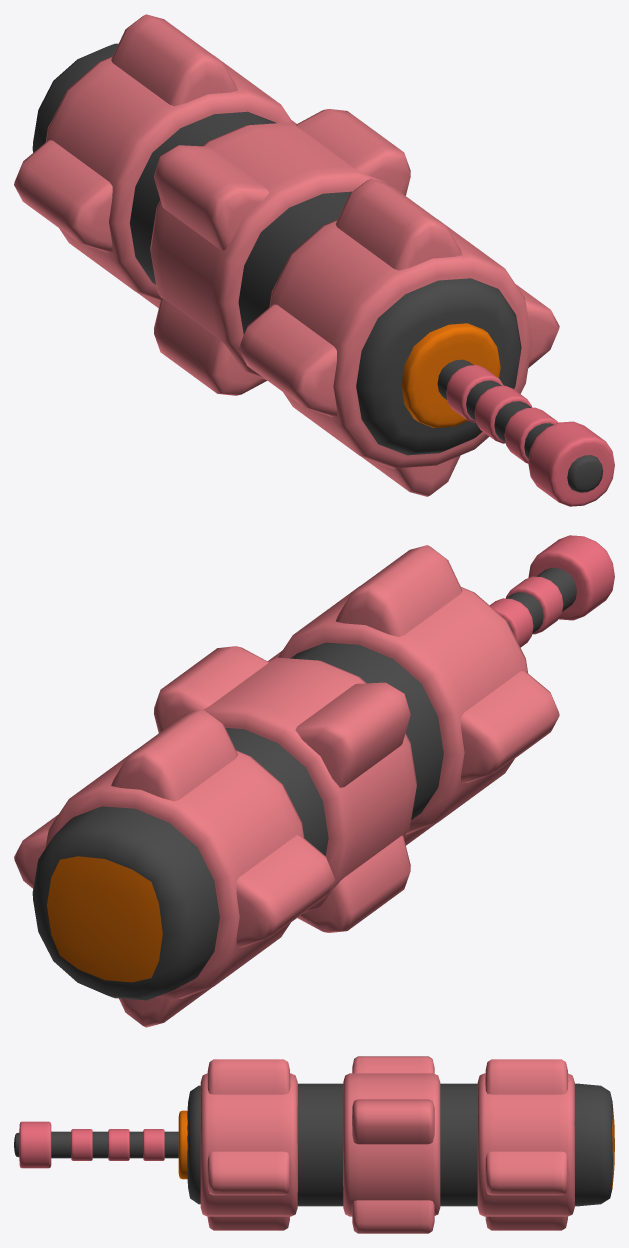
The model's file is softy2.fbx.
3 views of the same model, one above another, from view 1: azimuth 30°, elevation 25°; view 2: azimuth 150°, elevation 25°; view 3: azimuth 270°, elevation 25° (orthographic). The views are drawn at different scales.
Parts seen in each view (by area): view 1: pCube24, pCube15, pCube22, pCube17, pCube27, pCube29, pCube30, pCube28, pCube26, pCube16, pCube23, pCube20 (+4 smaller); view 2: pCube24, pCube17, pCube22, pCube15, pCube27, pCube16, pCube26, pCube28, pCube29, pCube30, pCube20, pCube31 (+2 smaller); view 3: pCube24, pCube22, pCube17, pCube15, pCube28, pCube29, pCube16, pCube27, pCube30, pCube26, pCube25, pCube20 (+4 smaller).
Boxes of the visible parts, bbox=[...] form: pCube24: bbox=[32, 43, 521, 455]; pCube15: bbox=[269, 220, 532, 468]; pCube22: bbox=[150, 122, 389, 379]; pCube17: bbox=[45, 55, 293, 301]; pCube27: bbox=[154, 109, 410, 395]; pCube29: bbox=[335, 178, 462, 496]; pCube30: bbox=[238, 284, 559, 416]; pCube28: bbox=[154, 145, 268, 250]; pCube26: bbox=[14, 120, 296, 252]; pCube16: bbox=[111, 14, 237, 308]; pCube23: bbox=[401, 323, 500, 427]; pCube20: bbox=[528, 421, 614, 506]; pCube24: bbox=[32, 642, 443, 1000]; pCube17: bbox=[45, 750, 304, 998]; pCube22: bbox=[203, 657, 416, 913]; pCube15: bbox=[278, 586, 528, 834]; pCube27: bbox=[154, 646, 410, 932]; pCube16: bbox=[111, 709, 237, 1027]; pCube26: bbox=[14, 814, 334, 947]; pCube28: bbox=[295, 682, 410, 787]; pCube29: bbox=[335, 545, 462, 845]; pCube30: bbox=[268, 650, 559, 783]; pCube20: bbox=[528, 535, 614, 620]; pCube31: bbox=[505, 576, 563, 634]; pCube24: bbox=[187, 1083, 614, 1206]; pCube22: bbox=[343, 1073, 440, 1216]; pCube17: bbox=[477, 1073, 574, 1216]; pCube15: bbox=[200, 1073, 297, 1216]; pCube28: bbox=[352, 1056, 434, 1233]; pCube29: bbox=[207, 1059, 290, 1230]; pCube16: bbox=[485, 1059, 568, 1230]; pCube27: bbox=[352, 1099, 434, 1144]; pCube30: bbox=[207, 1151, 290, 1195]; pCube26: bbox=[485, 1151, 568, 1195]; pCube25: bbox=[14, 1131, 178, 1158]; pCube20: bbox=[19, 1121, 51, 1168].
Size of the model in its own units: 1.47 by 1.47 by 4.67.
